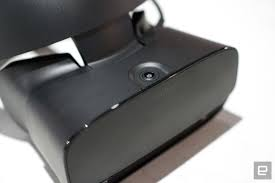oculus: (15, 43, 239, 183)
